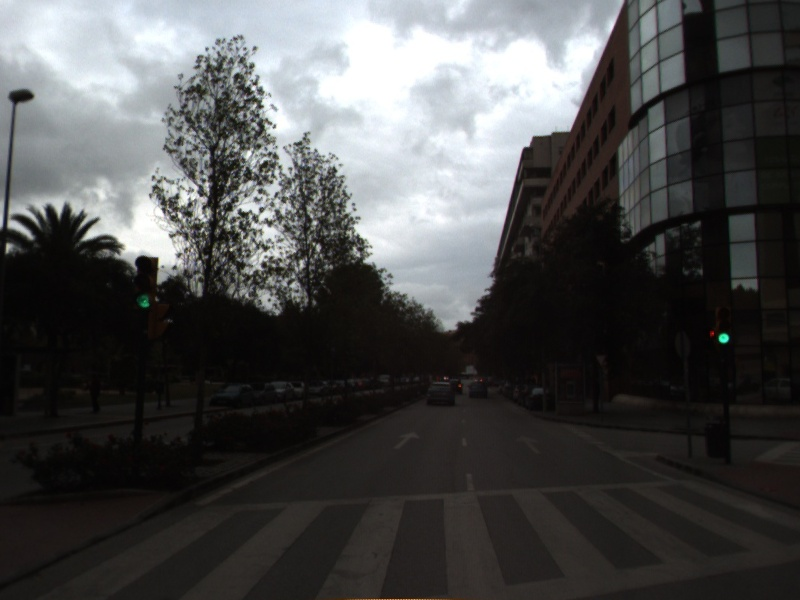STRAIGHT: (512, 433, 544, 455), (391, 430, 423, 450)
